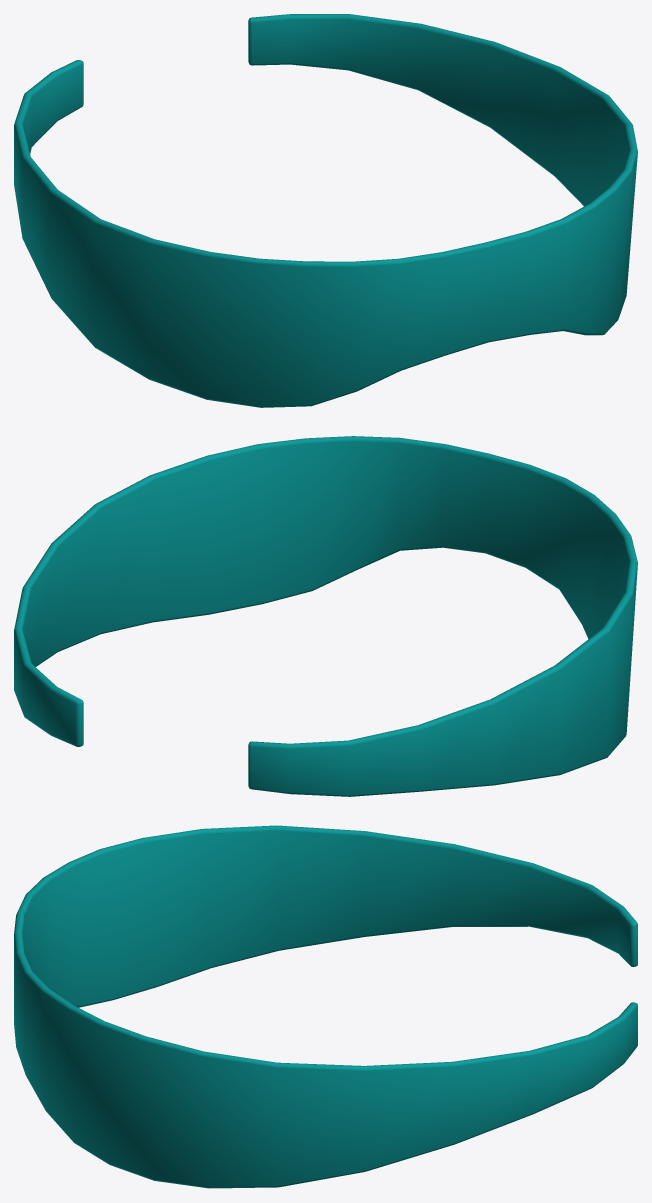
File: SM_horse_glass.fbx
3 views of the same model, one above another, from view 1: azimuth 30°, elevation 25°; view 2: azimuth 150°, elevation 25°; view 3: azimuth 270°, elevation 25° (orthographic). The views are drawn at different scales.
Visible parts, largest first — view 1: SM_horse_glass; view 2: SM_horse_glass; view 3: SM_horse_glass.
Part boxes in pixels (x1,y1,x2,y2): SM_horse_glass: [14, 14, 637, 407]; SM_horse_glass: [14, 436, 637, 796]; SM_horse_glass: [14, 825, 637, 1188].
Bounding box in the file's own units: 57.45 × 16.87 × 62.92.
